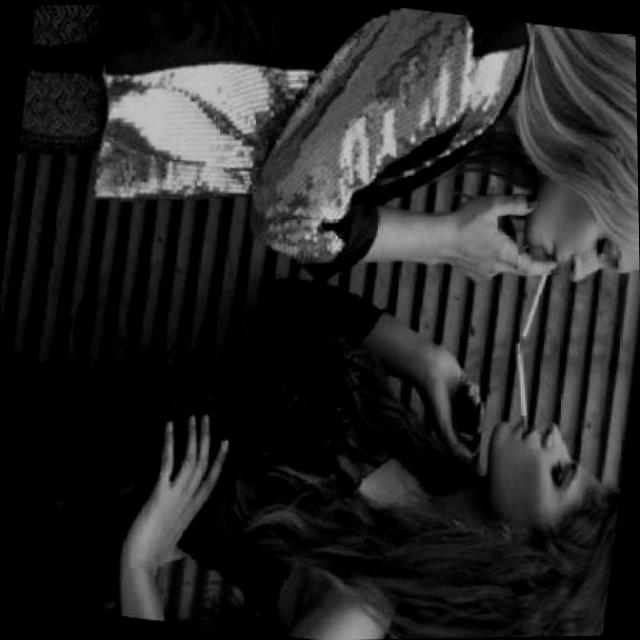cigarette: (430, 193, 552, 347)
